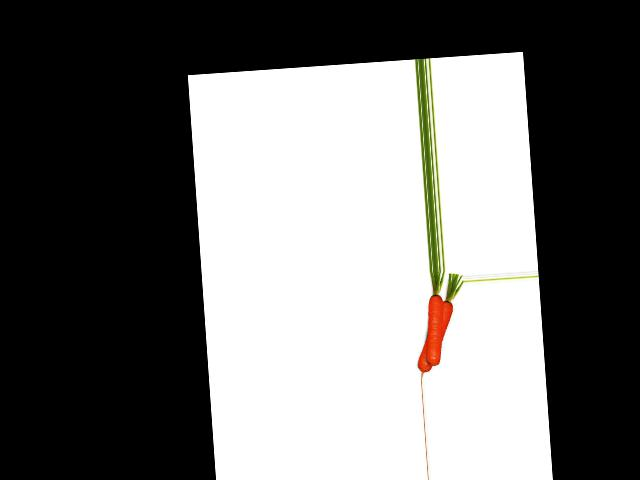carrot: (414, 294, 458, 378)
